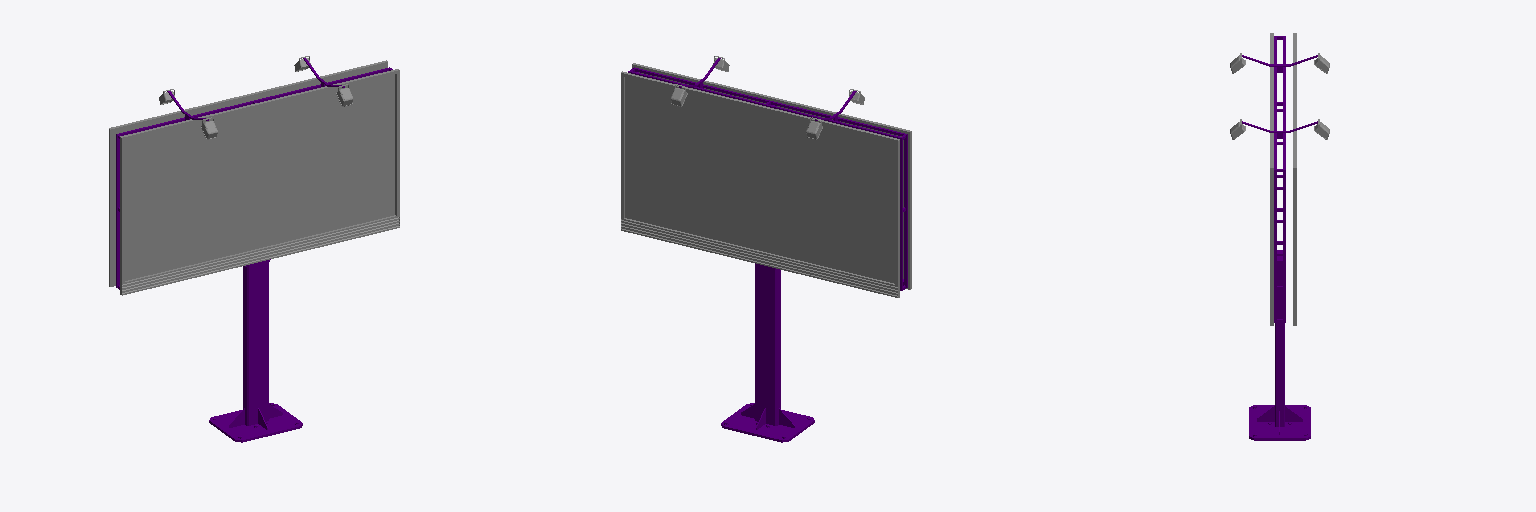
The model's file is valla_5.obj.
3 renders of one model, left to right at view 1: azimuth 30°, elevation 25°; view 2: azimuth 150°, elevation 25°; view 3: azimuth 270°, elevation 25°, orthographic.
Visible parts, largest first — view 1: __3_Box01, __3______Box03, __3_Box02, __3_Rectangle8; view 2: __3_Box02, __3______Box03, __3_Rectangle8, __3_Box01; view 3: __3______Box03, __3_Rectangle8, __3_Box01, __3_Box02.
Boxes of the visible parts, <box> form: __3_Box01: <box>120,69,399,295</box>; __3______Box03: <box>209,260,302,442</box>; __3_Box02: <box>109,60,387,286</box>; __3_Rectangle8: <box>116,58,392,289</box>; __3_Box02: <box>621,71,899,297</box>; __3______Box03: <box>721,263,814,442</box>; __3_Rectangle8: <box>628,58,907,290</box>; __3_Box01: <box>632,63,911,289</box>; __3______Box03: <box>1249,250,1310,440</box>; __3_Rectangle8: <box>1242,36,1317,322</box>; __3_Box01: <box>1270,33,1273,325</box>; __3_Box02: <box>1293,33,1296,325</box>.
Bounding box in the file's own units: 41.16 × 47.56 × 12.76.